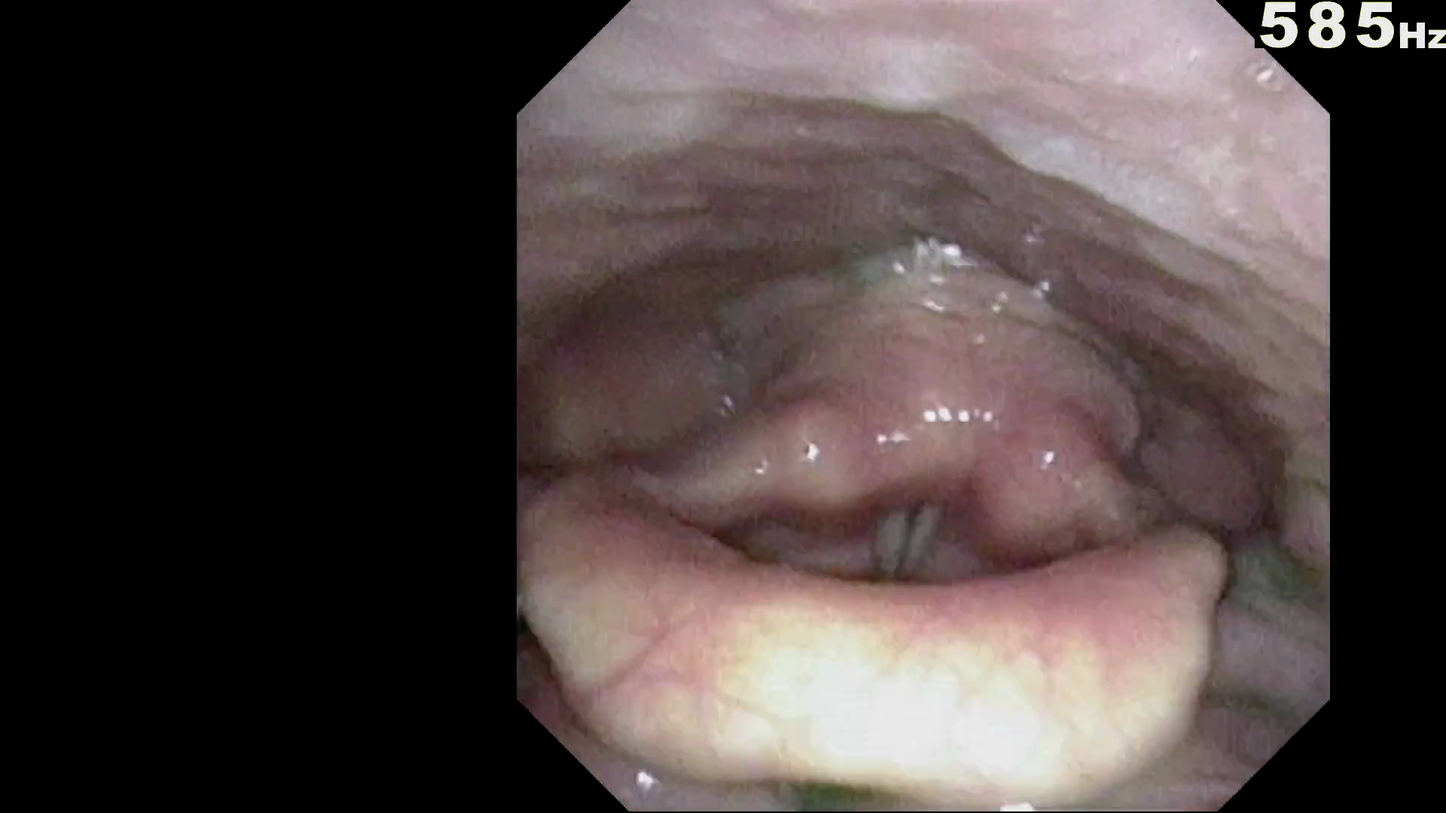epiglottis: (614, 570, 1242, 789)
trachea: (851, 486, 969, 618)
